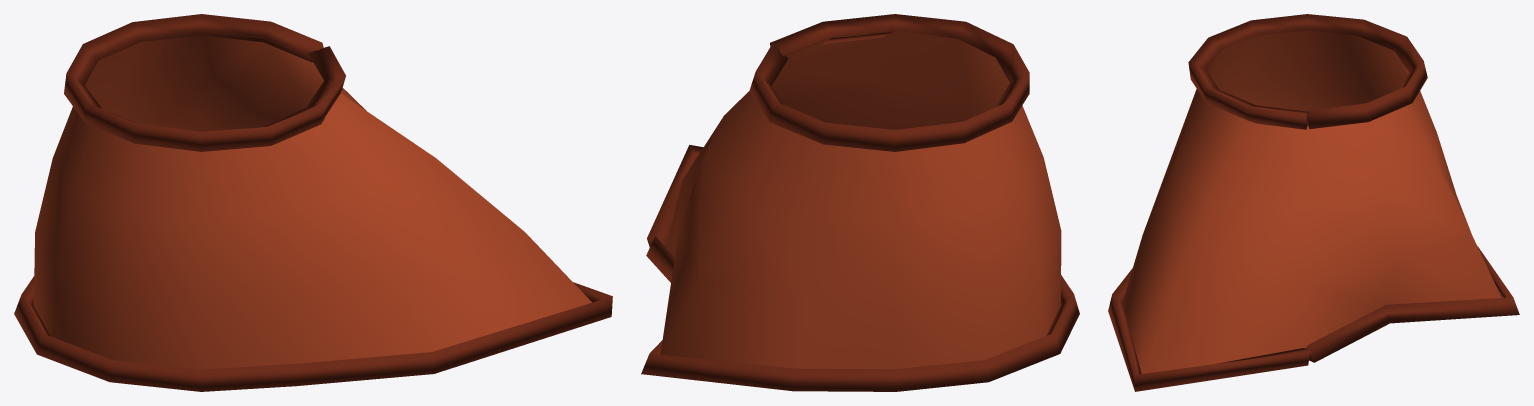
Rendered from meteor_armor_pauldron.L.glb.
3 renders of one model, left to right at view 1: azimuth 30°, elevation 25°; view 2: azimuth 150°, elevation 25°; view 3: azimuth 270°, elevation 25°, orthographic. The views are drawn at different scales.
Visible parts, largest first — view 1: meteor_armor_pauldron.L; view 2: meteor_armor_pauldron.L; view 3: meteor_armor_pauldron.L.
Boxes of the visible parts, <box> form: meteor_armor_pauldron.L: <box>14,14,612,391</box>; meteor_armor_pauldron.L: <box>641,14,1079,391</box>; meteor_armor_pauldron.L: <box>1108,14,1519,391</box>.
Size of the model in its own units: 0.3323 by 0.1646 by 0.2981.
